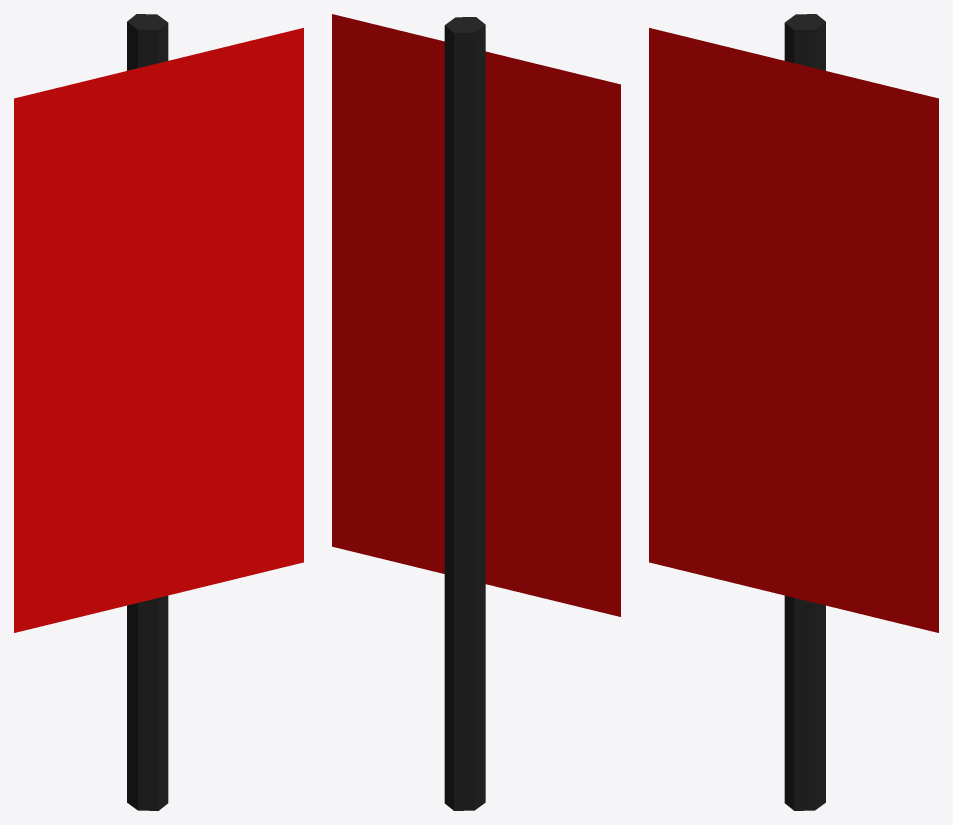
File: red_flag.fbx
3 views of the same model, side by side, from view 1: azimuth 30°, elevation 25°; view 2: azimuth 150°, elevation 25°; view 3: azimuth 330°, elevation 25° (orthographic).
Parts seen in each view (by area): view 1: Plane, Cylinder; view 2: Plane, Cylinder; view 3: Plane, Cylinder.
Part boxes in pixels (left/top/right/bottom): Plane: left=14, top=28, right=303, bottom=632; Cylinder: left=127, top=14, right=168, bottom=810; Plane: left=332, top=14, right=620, bottom=616; Cylinder: left=444, top=17, right=485, bottom=810; Plane: left=649, top=28, right=938, bottom=632; Cylinder: left=784, top=14, right=825, bottom=810.
Size of the model in its own units: 97.01 by 250 by 13.03.
